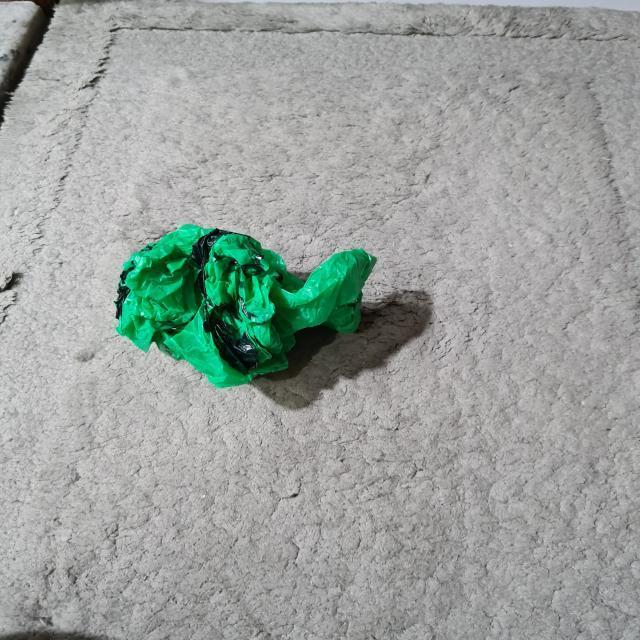Plastic_Bag: (109, 222, 371, 392)
